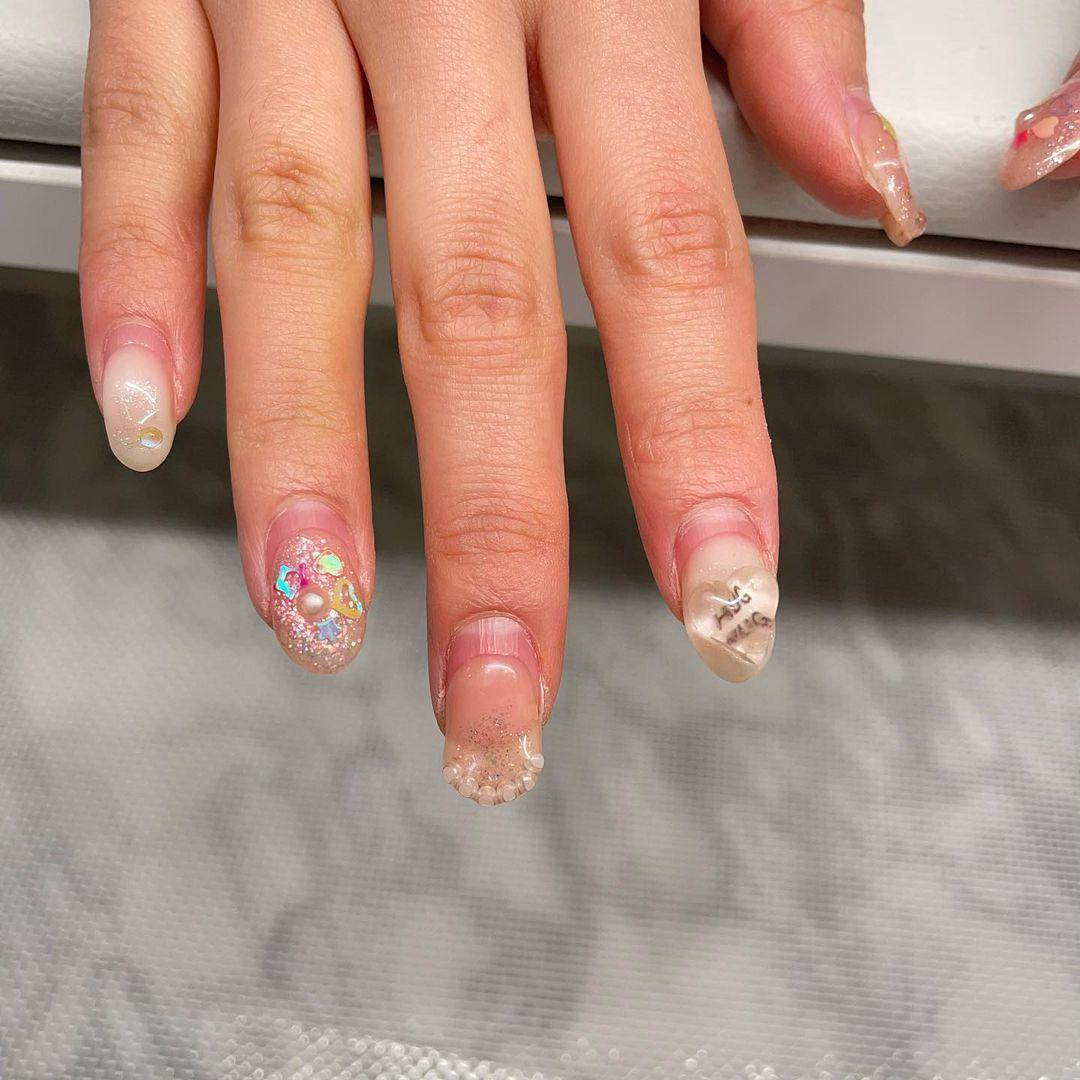nail: (438, 611, 545, 806), (671, 497, 780, 683), (261, 494, 368, 674), (841, 87, 927, 247), (98, 319, 177, 472), (997, 49, 1079, 191)
